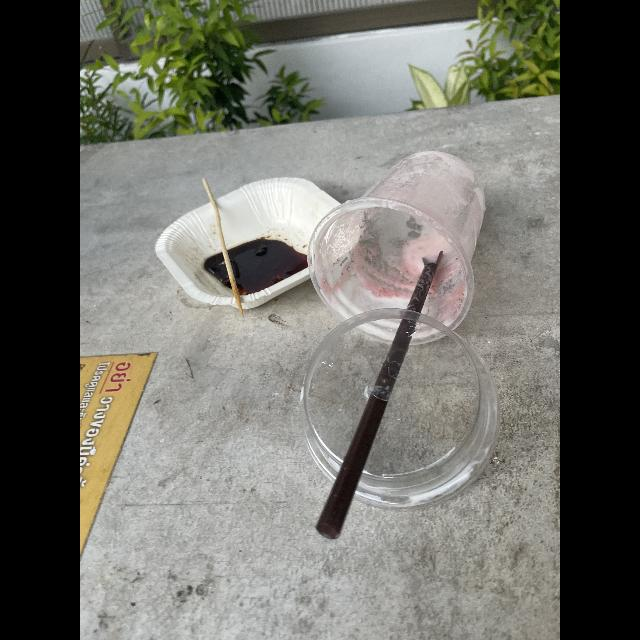cardboard_bowl: (140, 169, 338, 317)
plastic_cup: (306, 146, 498, 342)
plastic_cup_lid: (280, 299, 509, 511)
stick: (299, 231, 458, 557), (189, 169, 266, 330)
